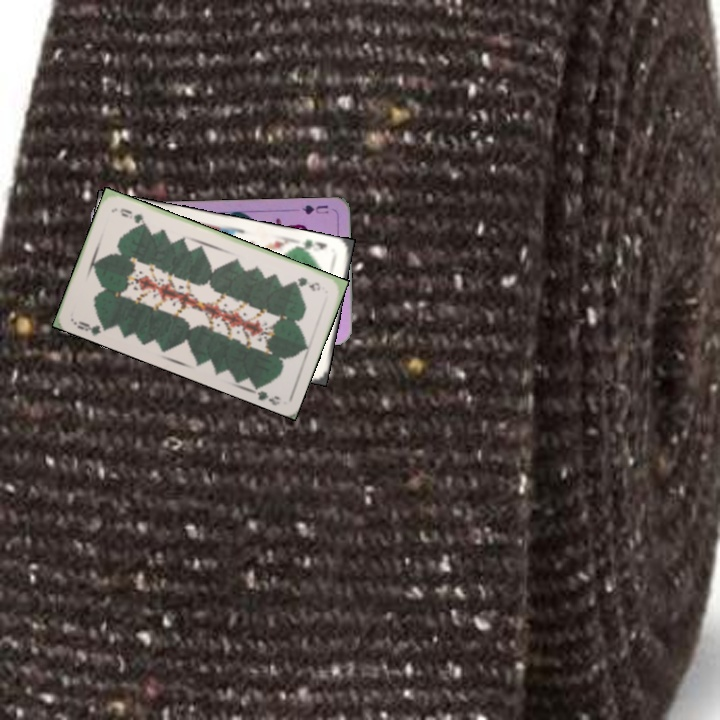G9: (69, 317, 111, 338), (289, 273, 323, 293)
GK: (295, 235, 329, 255)
GU: (297, 201, 331, 217)
